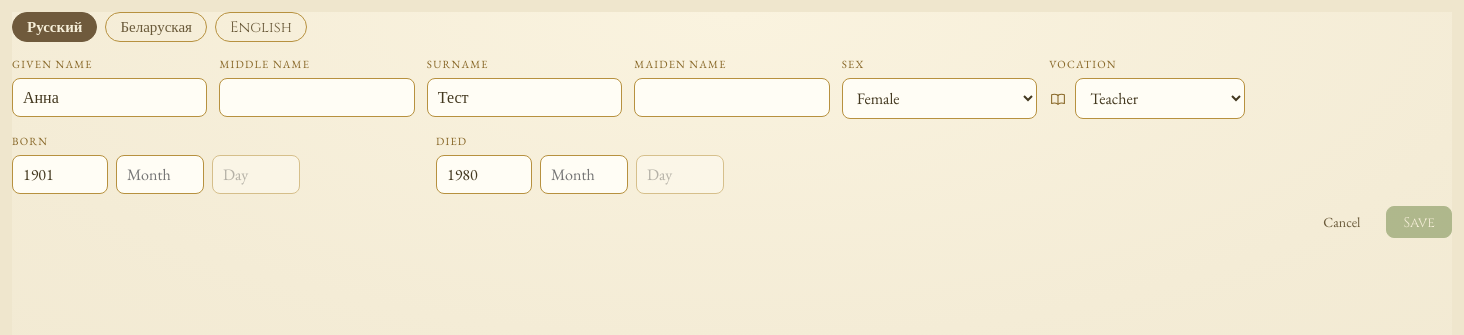
Test case: MemberFieldsEditor › renders per-field and form-level validation errors from a 400
Step 1. Replace the text in the number field with test id "field-birthYear" with "9999" → (60, 174), box [12,155,108,194]
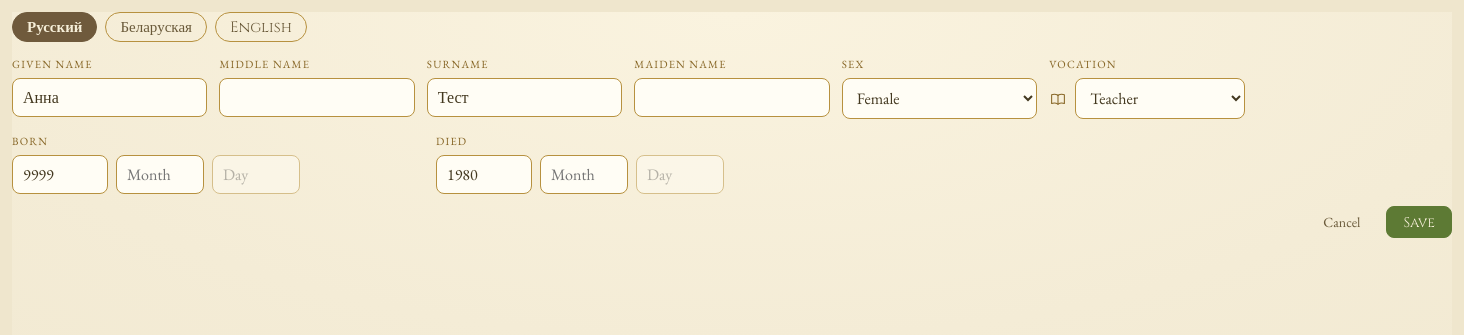
Step 2. Click the button with test id "fields-save" → (1419, 222), box [1386,206,1452,238]
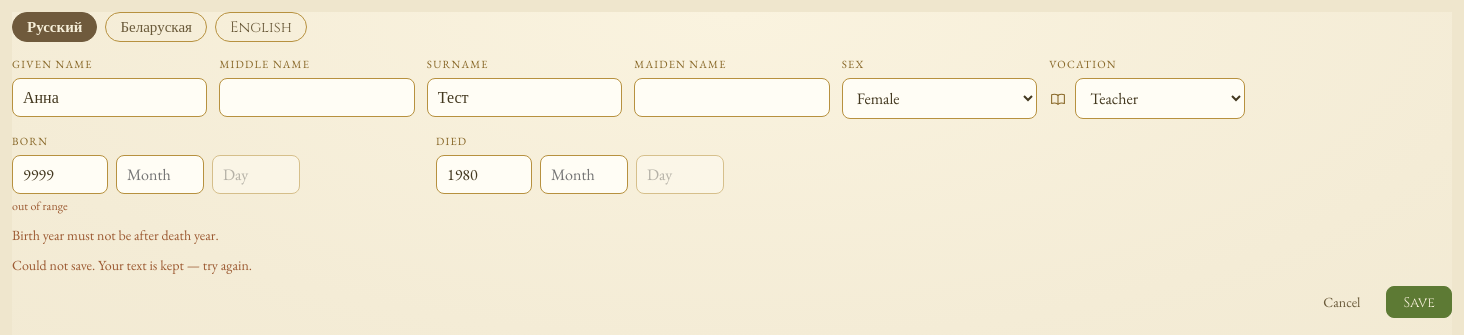
Now the text with test id "error-birthDate" reads "out of range", box [12,198,68,214]
Now the text with test id "error-form" shows "death year", box [12,226,219,244]
